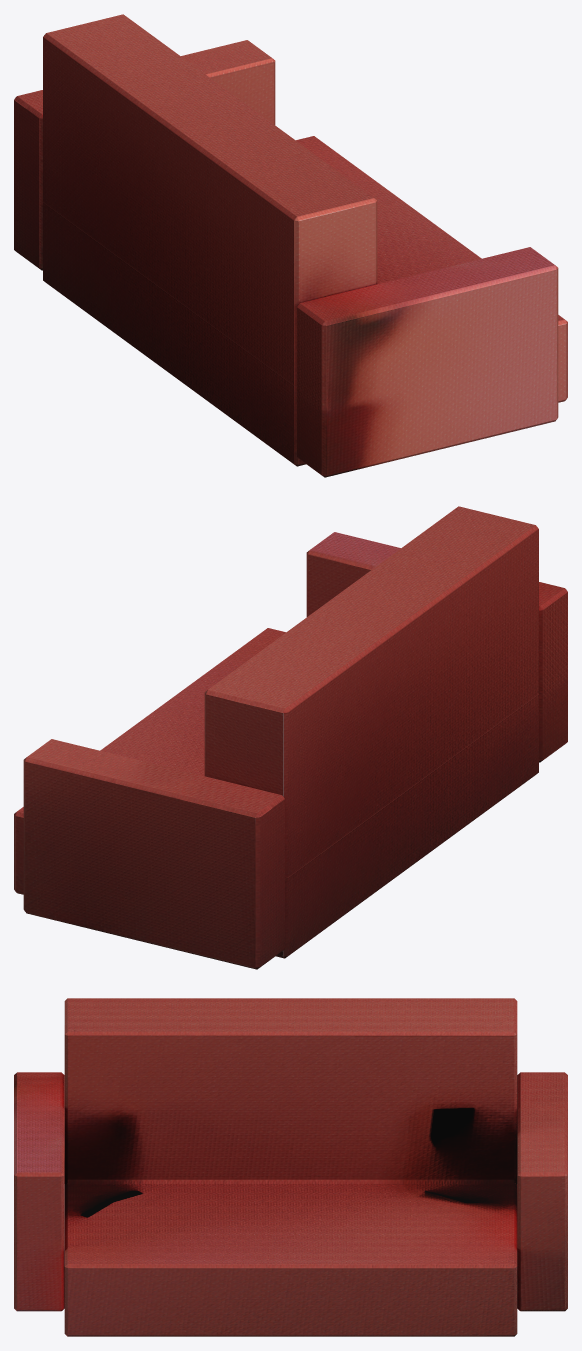
The model's file is couch.gltf.
3 renders of one model, top to bottom at view 1: azimuth 30°, elevation 25°; view 2: azimuth 150°, elevation 25°; view 3: azimuth 270°, elevation 25°, orthographic. The views are drawn at different scales.
Visible parts, largest first — view 1: Couch.001; view 2: Couch.001; view 3: Couch.001.
Boxes of the visible parts, x1,y1,x2,y2 form: Couch.001: (14,14,567,477); Couch.001: (14,506,567,969); Couch.001: (14,998,567,1336).
Size of the model in its own units: 2.69 by 2.34 by 5.28.
Materials: 1 (1 with a texture image).
